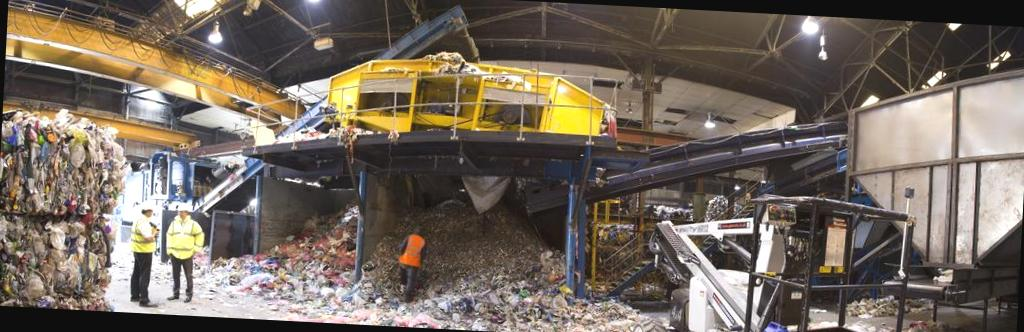helmet: (172, 198, 189, 214), (136, 202, 155, 214)
person: (160, 200, 210, 302), (122, 201, 164, 309), (394, 222, 428, 304)
